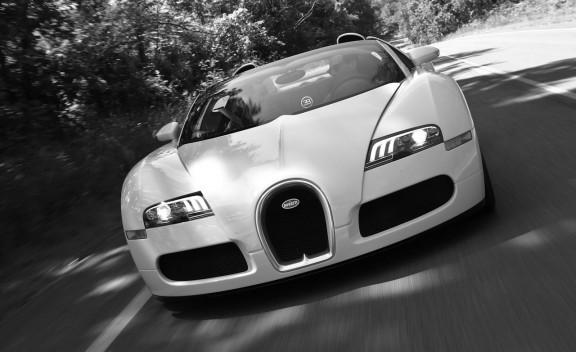car: (123, 35, 487, 297)
